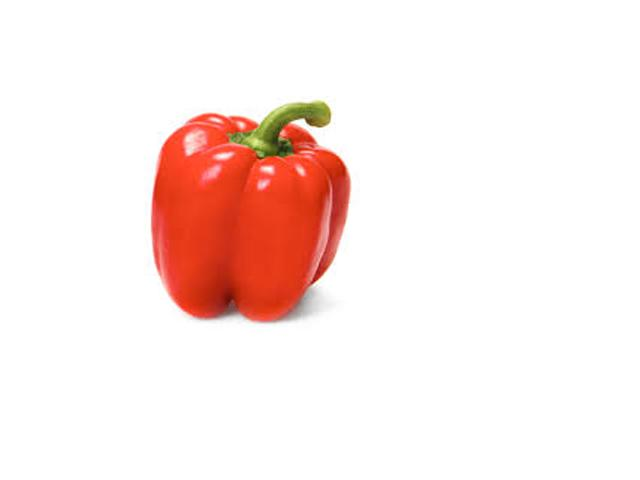bell_pepper: (145, 96, 350, 324)
